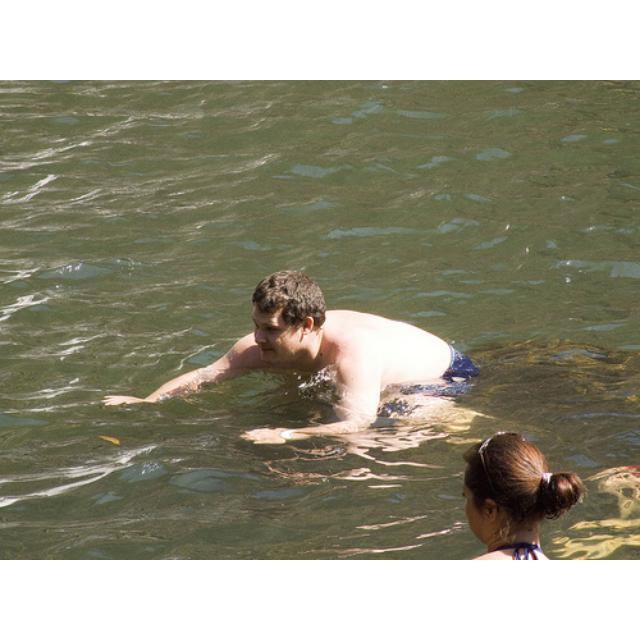human: (103, 267, 475, 446), (459, 429, 587, 559)
